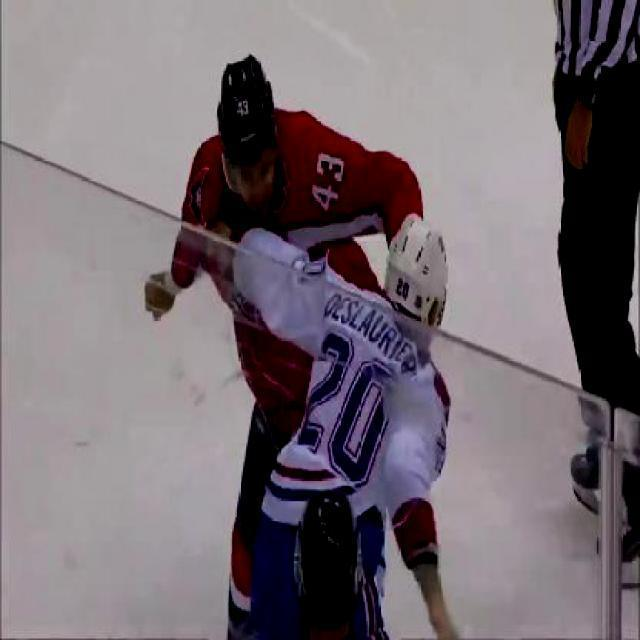fight: (142, 46, 466, 640)
